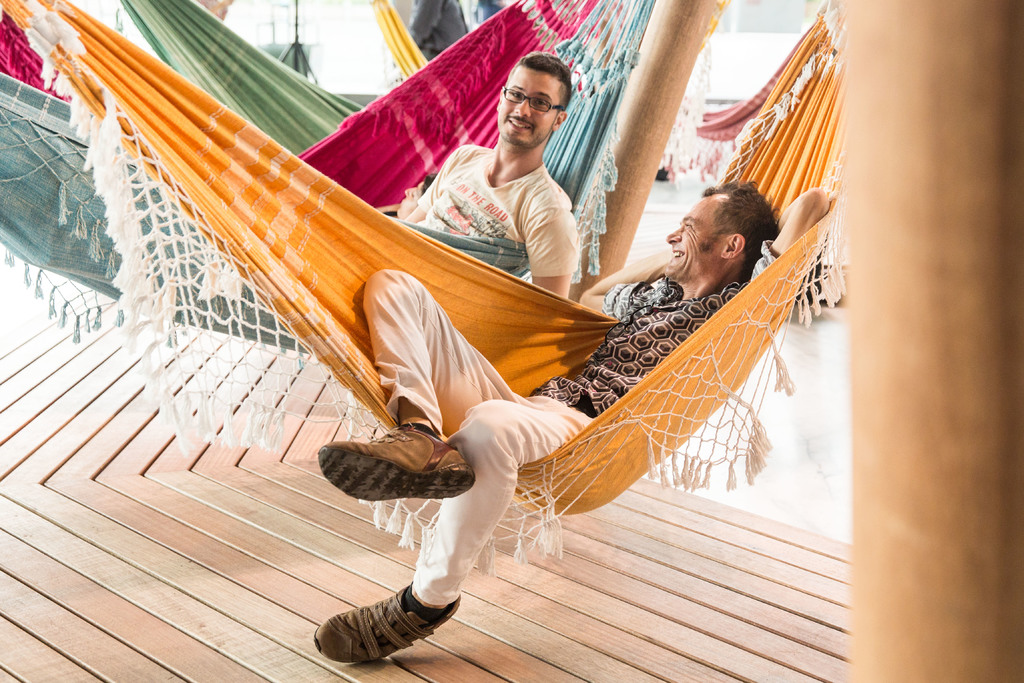person: (395, 50, 584, 297)
